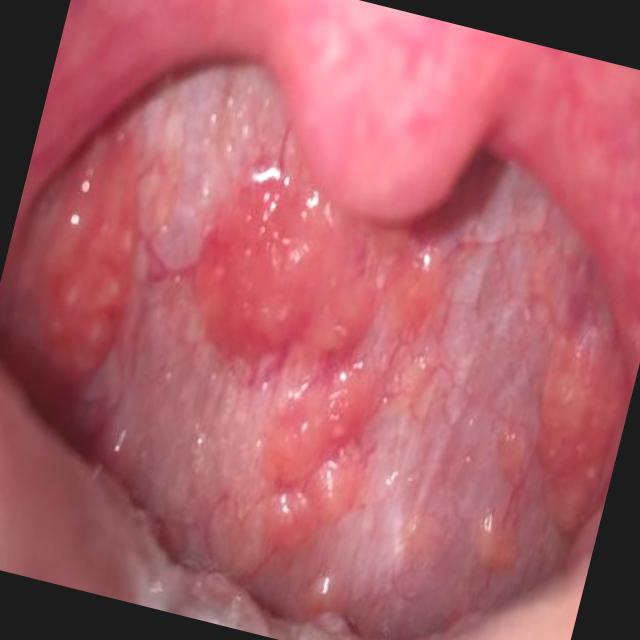Non Pharyngitis: (0, 111, 327, 450), (451, 304, 640, 573)
